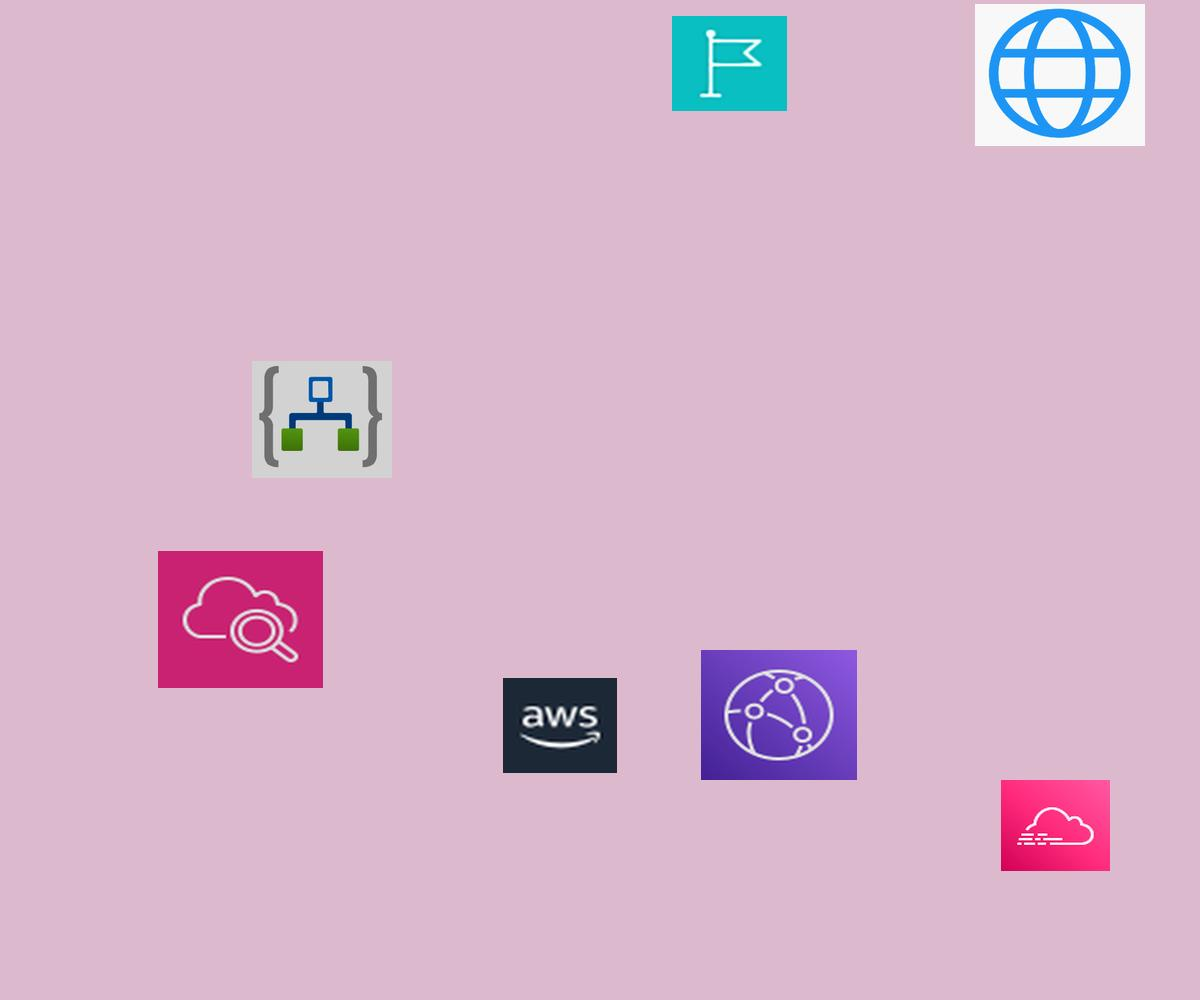AWS-Cloud-logo: (503, 678, 617, 773)
AWS-CloudFront: (701, 650, 857, 780)
AWS-CloudTrail: (1001, 780, 1110, 871)
AWS-CloudWatch: (158, 551, 323, 688)
AWS-Region: (672, 16, 787, 111)
Azure_http: (975, 4, 1145, 146)
Azure_integration-204-Logic-Apps: (252, 361, 392, 478)
